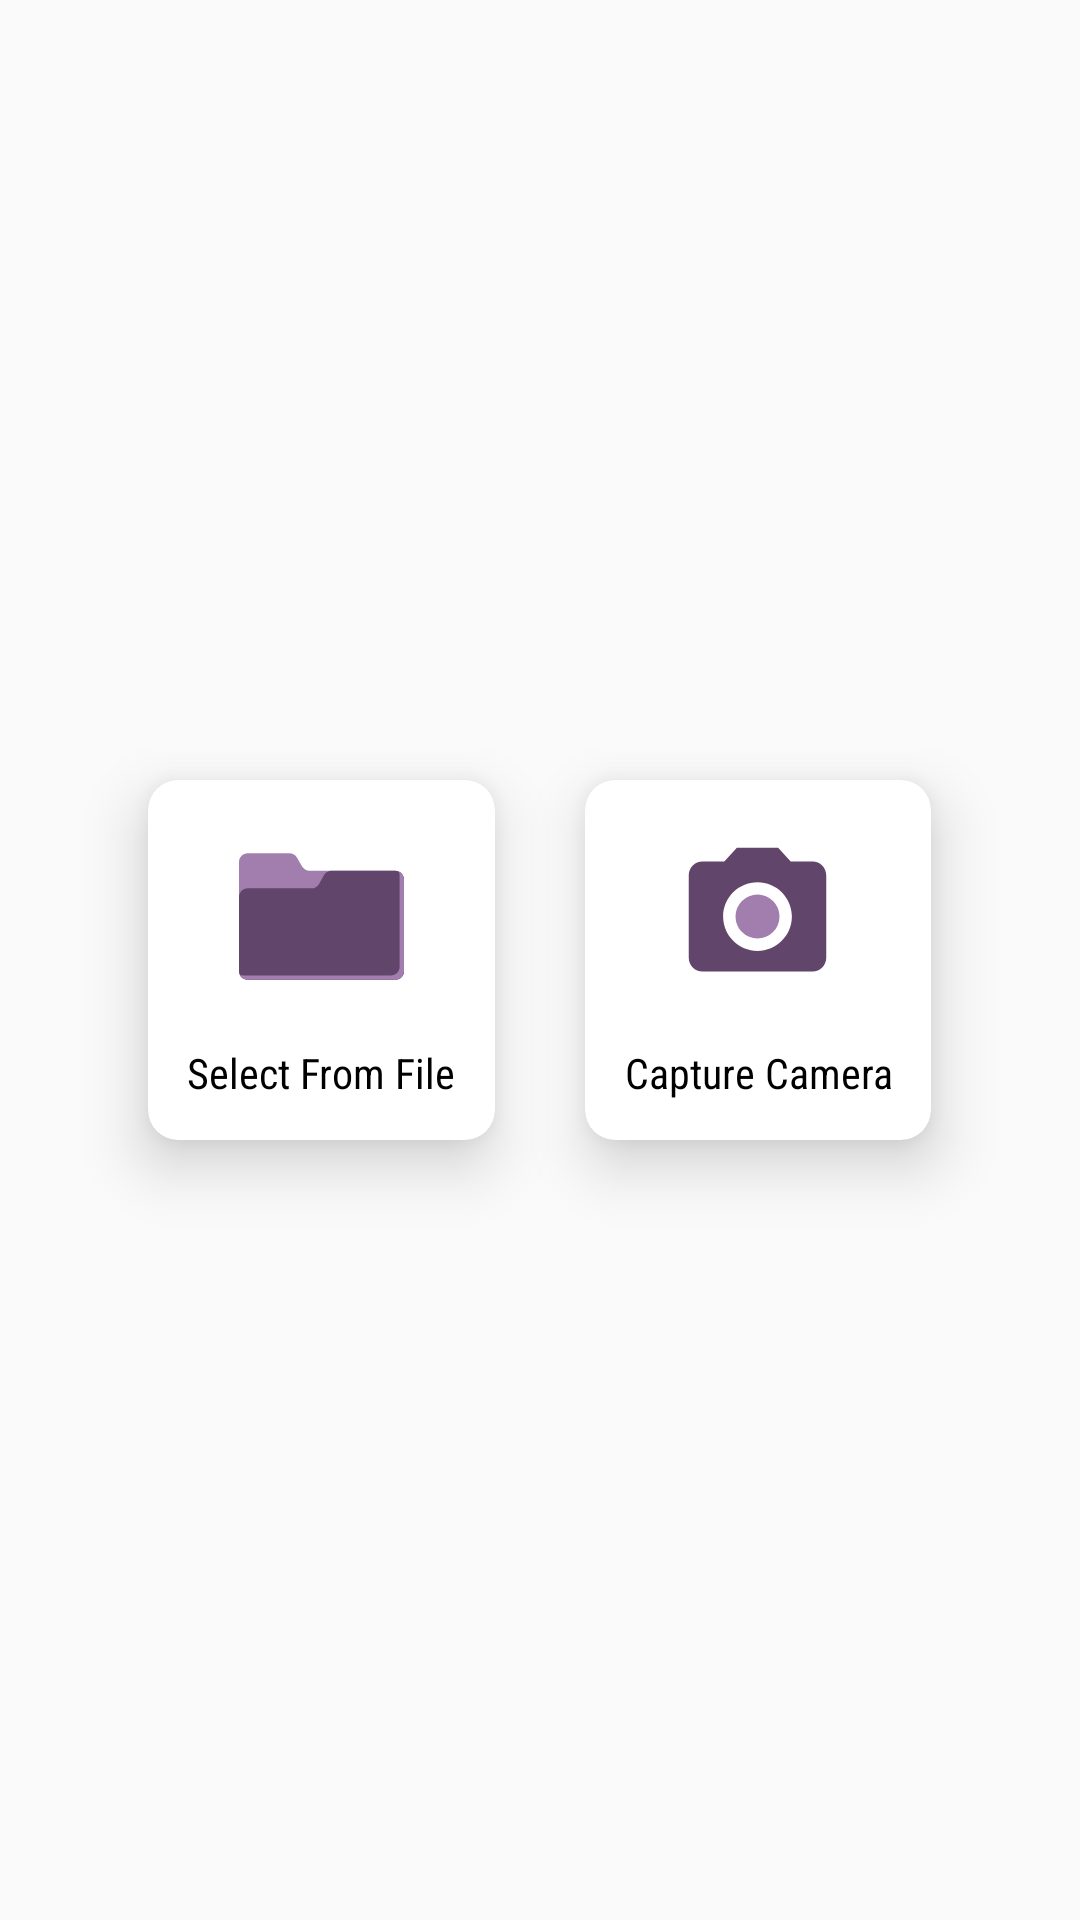

Named icons in this screenshot (1080×1920) and their centers, (x=x, y=y):
folder: (x=321, y=916)
